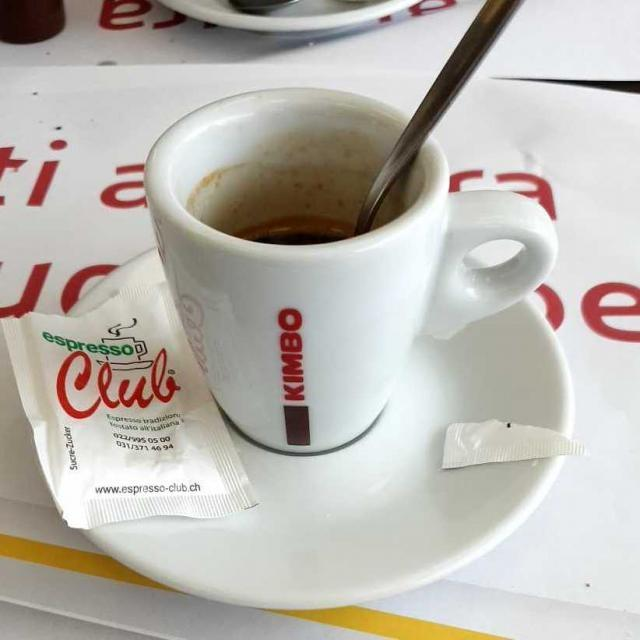espresso: (224, 209, 365, 253)
